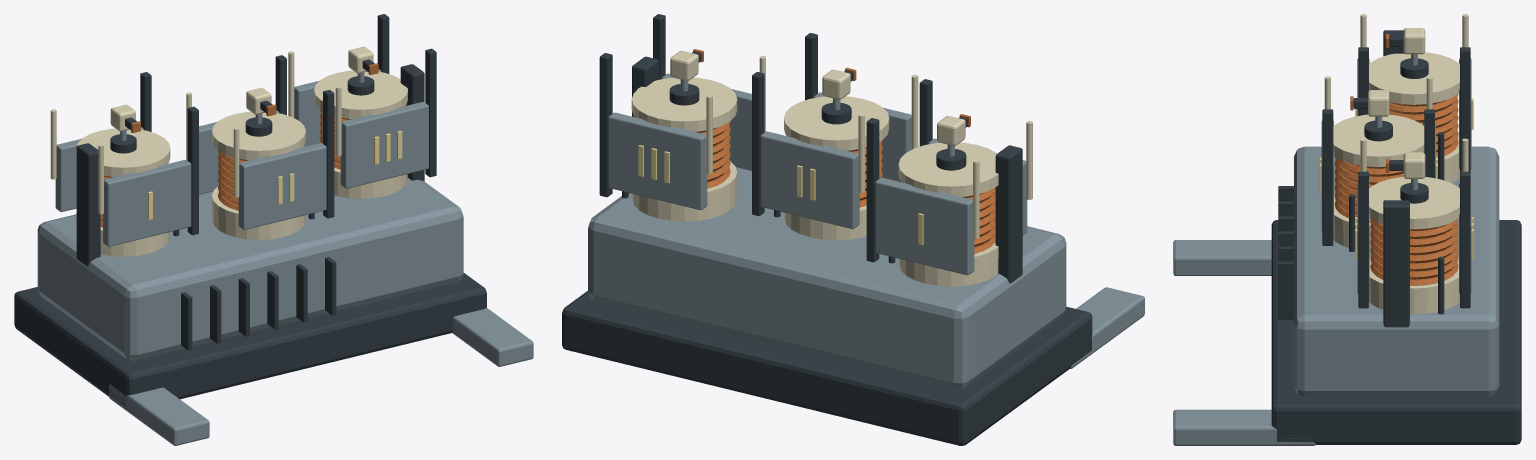
File: build69-custodian.glb
3 views of the same model, side by side, from view 1: azimuth 30°, elevation 25°; view 2: azimuth 150°, elevation 25°; view 3: azimuth 270°, elevation 25° (orthographic). The views are drawn at different scales.
Visible parts, largest first — view 1: Cast_power_housing, Foundation, Shutter_0_1, Shutter_1_1, Shutter_2_1, Outrigger_0, Collar_1_1, Outrigger_1, Collar_2_1, Bearing_0, Collar_0_1, Shutter_0_0 (+19 smaller); view 2: Cast_power_housing, Foundation, Shutter_0_0, Shutter_1_0, Shutter_2_0, Collar_2_1, Collar_0_1, Collar_1_1, Bearing_0, Outrigger_0, Rail_0_0, Rail_2_0 (+15 smaller); view 3: Cast_power_housing, Foundation, Outrigger_1, Outrigger_0, Bearing_1, Collar_0_1, Collar_1_1, Collar_2_1, Rail_1_1, Rail_2_0, Rail_2_1, Rail_0_0 (+23 smaller).
Part boxes in pixels (<box>): Cast_power_housing: <box>37,178,463,360</box>; Foundation: <box>14,273,486,406</box>; Shutter_0_1: <box>103,159,191,246</box>; Shutter_1_1: <box>238,143,326,229</box>; Shutter_2_1: <box>340,102,428,188</box>; Outrigger_0: <box>109,384,209,445</box>; Collar_1_1: <box>212,111,305,160</box>; Outrigger_1: <box>452,308,533,366</box>; Collar_2_1: <box>314,70,407,118</box>; Bearing_0: <box>76,143,100,266</box>; Collar_0_1: <box>76,128,170,176</box>; Shutter_0_0: <box>55,127,143,212</box>; Cast_power_housing: <box>588,167,1066,388</box>; Foundation: <box>562,291,1092,445</box>; Shutter_0_0: <box>875,177,974,275</box>; Shutter_1_0: <box>760,131,859,229</box>; Shutter_2_0: <box>608,112,707,210</box>; Collar_2_1: <box>631,77,737,131</box>; Collar_0_1: <box>898,142,998,196</box>; Collar_1_1: <box>784,96,889,150</box>; Bearing_0: <box>995,145,1022,283</box>; Outrigger_0: <box>1070,287,1144,368</box>; Rail_0_0: <box>866,118,879,262</box>; Rail_2_0: <box>599,53,612,197</box>; Cast_power_housing: <box>1294,146,1499,396</box>; Foundation: <box>1271,220,1521,444</box>; Outrigger_1: <box>1173,409,1315,445</box>; Outrigger_0: <box>1173,240,1271,275</box>; Bearing_1: <box>1383,200,1409,327</box>; Collar_0_1: <box>1369,52,1459,104</box>; Collar_1_1: <box>1333,114,1424,167</box>; Collar_2_1: <box>1369,177,1459,229</box>; Rail_1_1: <box>1322,109,1333,245</box>; Rail_2_0: <box>1460,171,1470,308</box>; Rail_2_1: <box>1358,171,1368,308</box>; Rail_0_0: <box>1460,47,1470,171</box>.
Bounding box in the file's own units: 5 × 3.29 × 3.9.
